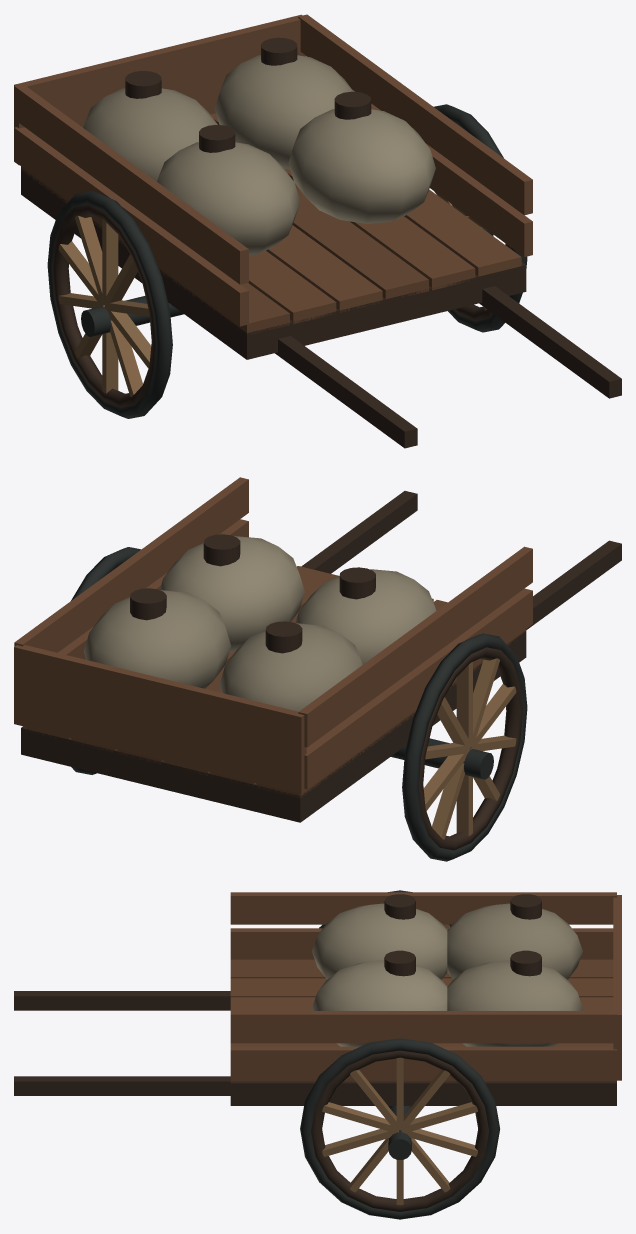
The model's file is obj-cart.glb.
The picture shows the model from 3 angles, top to bottom: view 1: azimuth 30°, elevation 25°; view 2: azimuth 150°, elevation 25°; view 3: azimuth 270°, elevation 25°; orthographic projection. The views are drawn at different scales.
Parts seen in each view (by area): view 1: obj-cart-wood, obj-cart-linen, obj-cart-woodDark, obj-cart-iron, obj-cart-woodLight; view 2: obj-cart-wood, obj-cart-linen, obj-cart-woodDark, obj-cart-iron, obj-cart-woodLight; view 3: obj-cart-wood, obj-cart-woodDark, obj-cart-linen, obj-cart-iron, obj-cart-woodLight.
Boxes of the visible parts, <box> form: obj-cart-wood: <box>14,14,532,334</box>; obj-cart-linen: <box>83,55,435,255</box>; obj-cart-woodDark: <box>21,37,621,448</box>; obj-cart-iron: <box>47,104,527,418</box>; obj-cart-woodLight: <box>58,191,487,396</box>; obj-cart-wood: <box>14,477,532,797</box>; obj-cart-linen: <box>83,536,436,711</box>; obj-cart-woodDark: <box>21,491,621,850</box>; obj-cart-iron: <box>71,547,527,861</box>; obj-cart-woodLight: <box>423,658,516,839</box>; obj-cart-wood: <box>230,892,621,1081</box>; obj-cart-woodDark: <box>14,894,616,1211</box>; obj-cart-linen: <box>312,903,582,1046</box>; obj-cart-iron: <box>300,890,499,1219</box>; obj-cart-woodLight: <box>322,924,477,1205</box>.
Bounding box in the file's own units: 2.5 × 1.51 × 3.86.
